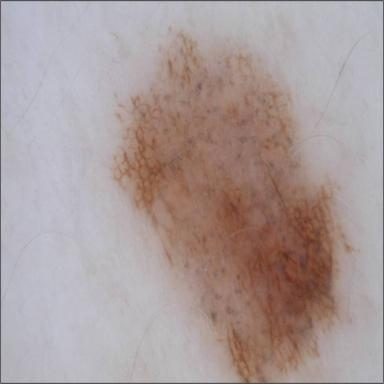nevus: (113, 32, 351, 381)
